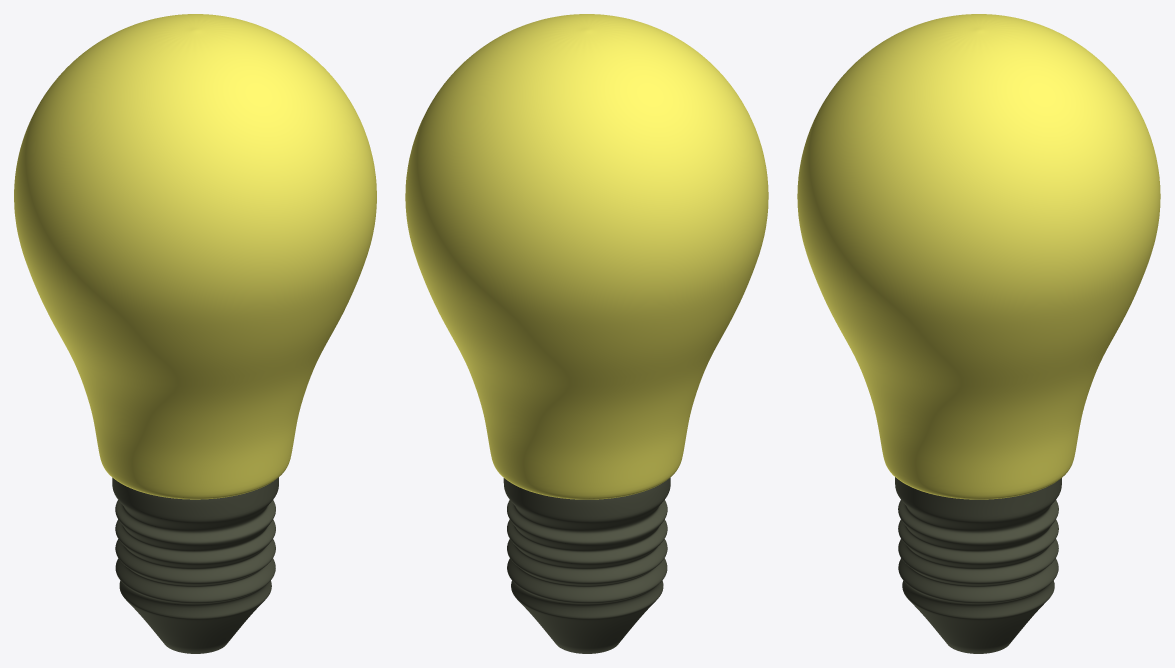
Rendered from foco4.fbx.
3 renders of one model, left to right at view 1: azimuth 30°, elevation 25°; view 2: azimuth 150°, elevation 25°; view 3: azimuth 270°, elevation 25°, orthographic.
Parts seen in each view (by area): view 1: ParteSuperiordel foco, foco; view 2: ParteSuperiordel foco, foco; view 3: ParteSuperiordel foco, foco.
Part boxes in pixels (box(x1,y1,x2,y2)): ParteSuperiordel foco: box(14, 14, 376, 499); foco: box(112, 477, 278, 653); ParteSuperiordel foco: box(405, 14, 768, 499); foco: box(503, 477, 670, 653); ParteSuperiordel foco: box(797, 14, 1160, 499); foco: box(895, 477, 1061, 653).
Bounding box in the file's own units: 250 × 463 × 250.
